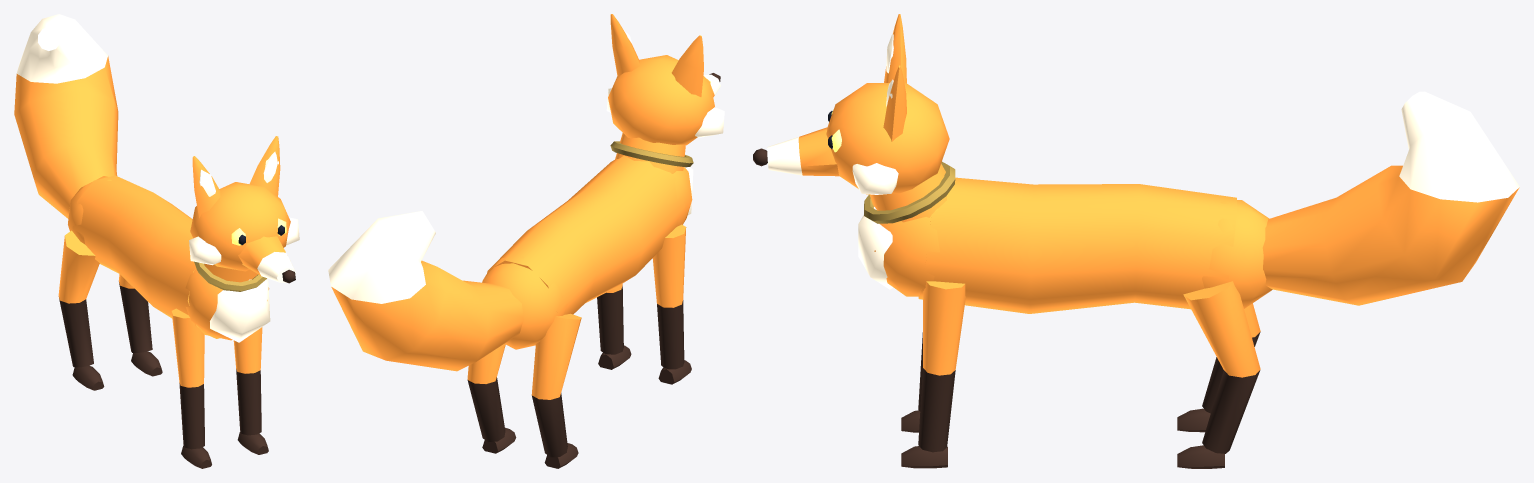
The model's file is npc_animal_fox.glb.
3 renders of one model, left to right at view 1: azimuth 30°, elevation 25°; view 2: azimuth 150°, elevation 25°; view 3: azimuth 270°, elevation 25°, orthographic. The views are drawn at different scales.
Parts seen in each view (by area): view 1: npc_animal_fox; view 2: npc_animal_fox; view 3: npc_animal_fox.
Part boxes in pixels (x1=…): npc_animal_fox: x1=14, y1=14, x2=299, y2=468; npc_animal_fox: x1=328, y1=14, x2=724, y2=468; npc_animal_fox: x1=753, y1=14, x2=1519, y2=468.
Bounding box in the file's own units: 0.3089 × 0.6808 × 1.16.
